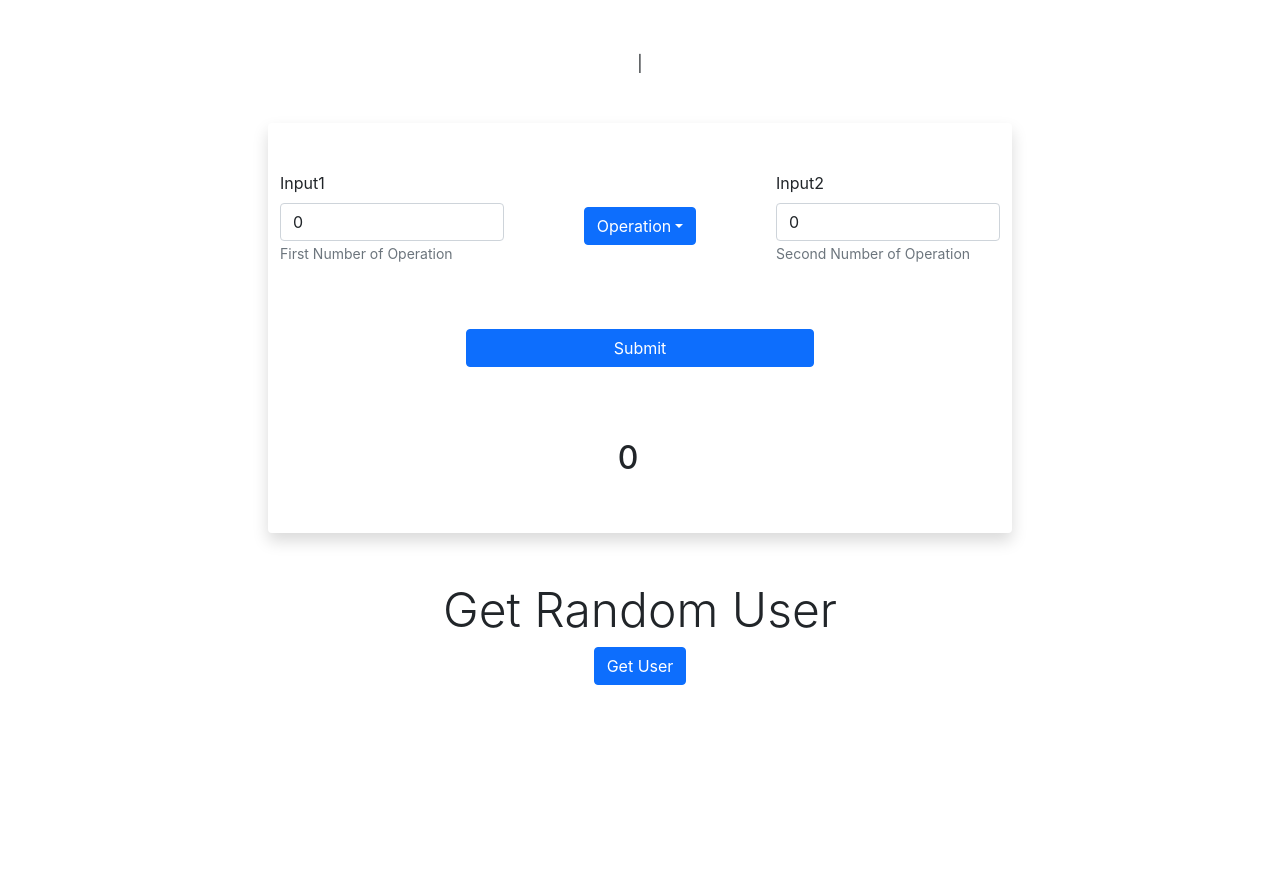
Test: <App /> › When user clicks on get user it should display a single user
Click the button "Get User". click: point(640, 666)
box: top-left (594, 647), bottom-right (686, 685)
(page scrolled)
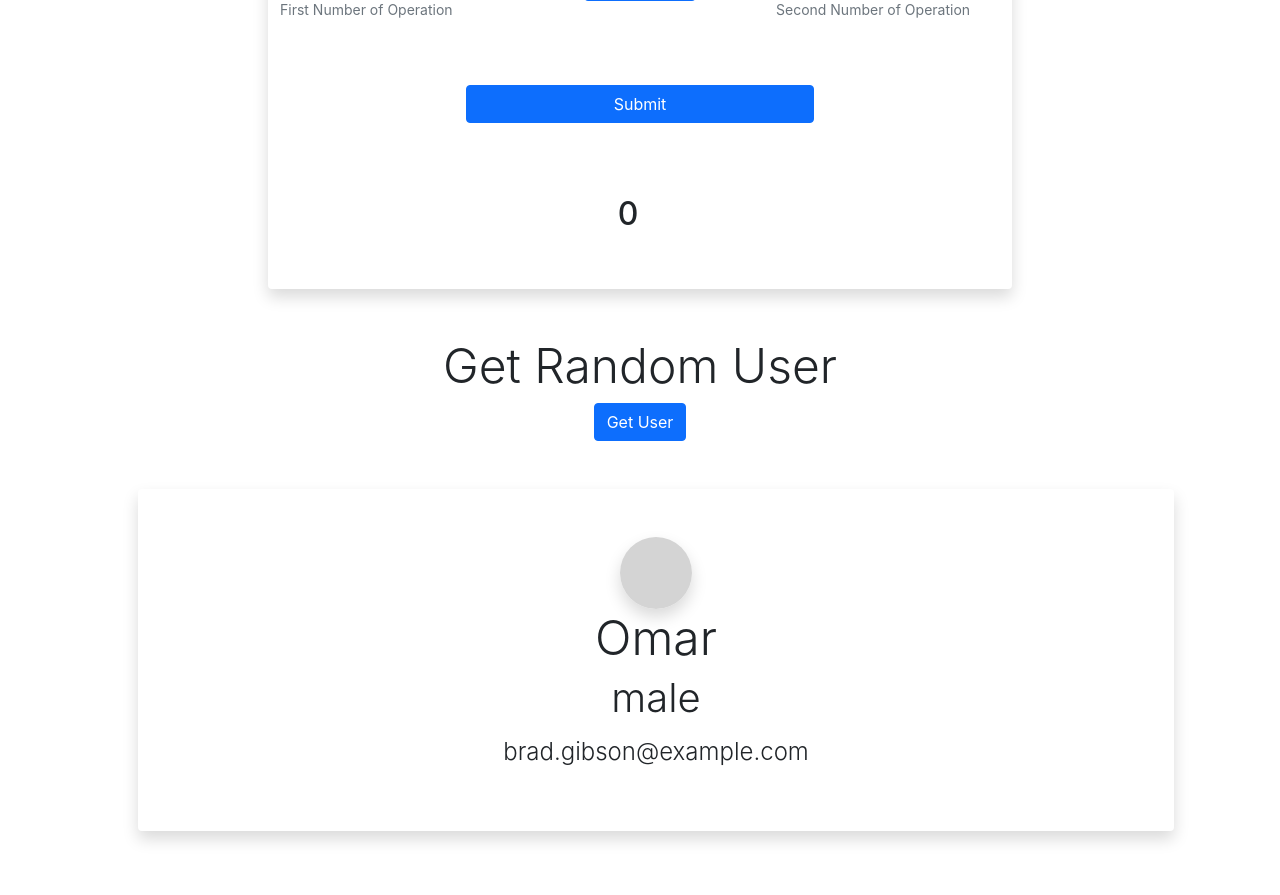
Now the text "brad.gibson@example.com" is shown, box top-left (503, 737), bottom-right (809, 766)
